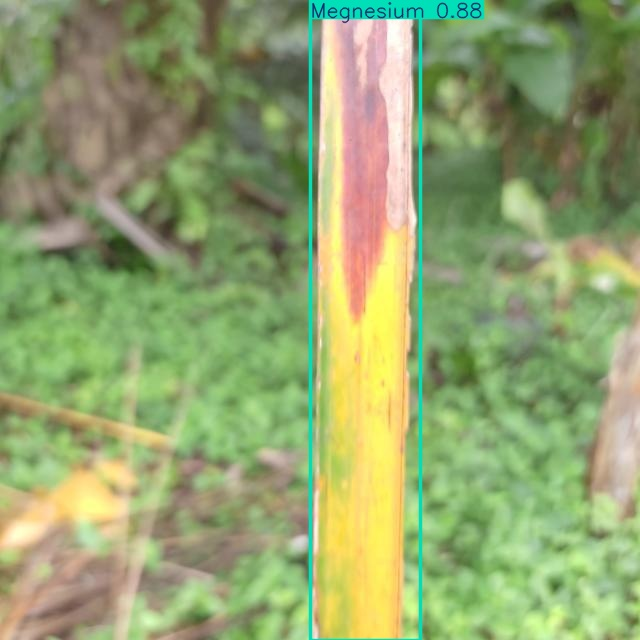Megnesium: (310, 0, 421, 640)
